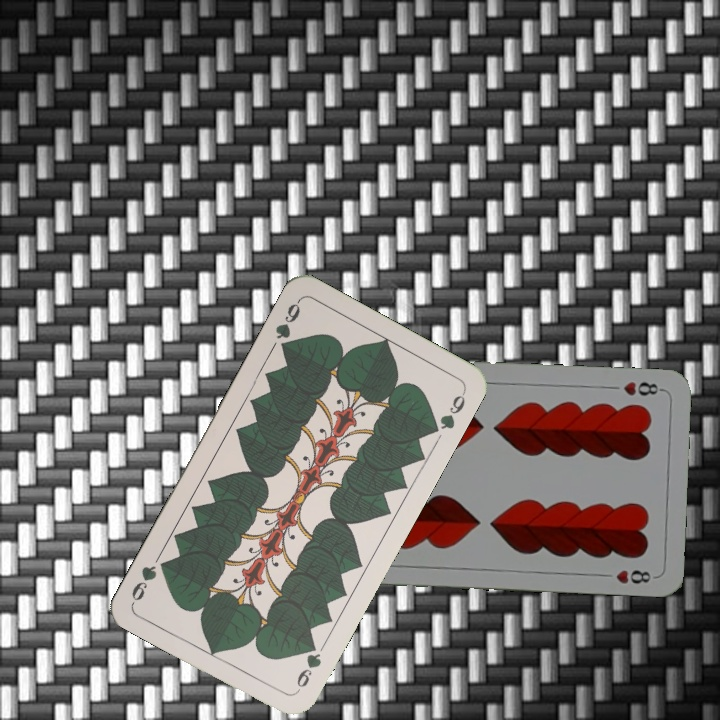G9: (271, 296, 303, 355), (292, 637, 324, 695)
H8: (619, 377, 665, 399)
